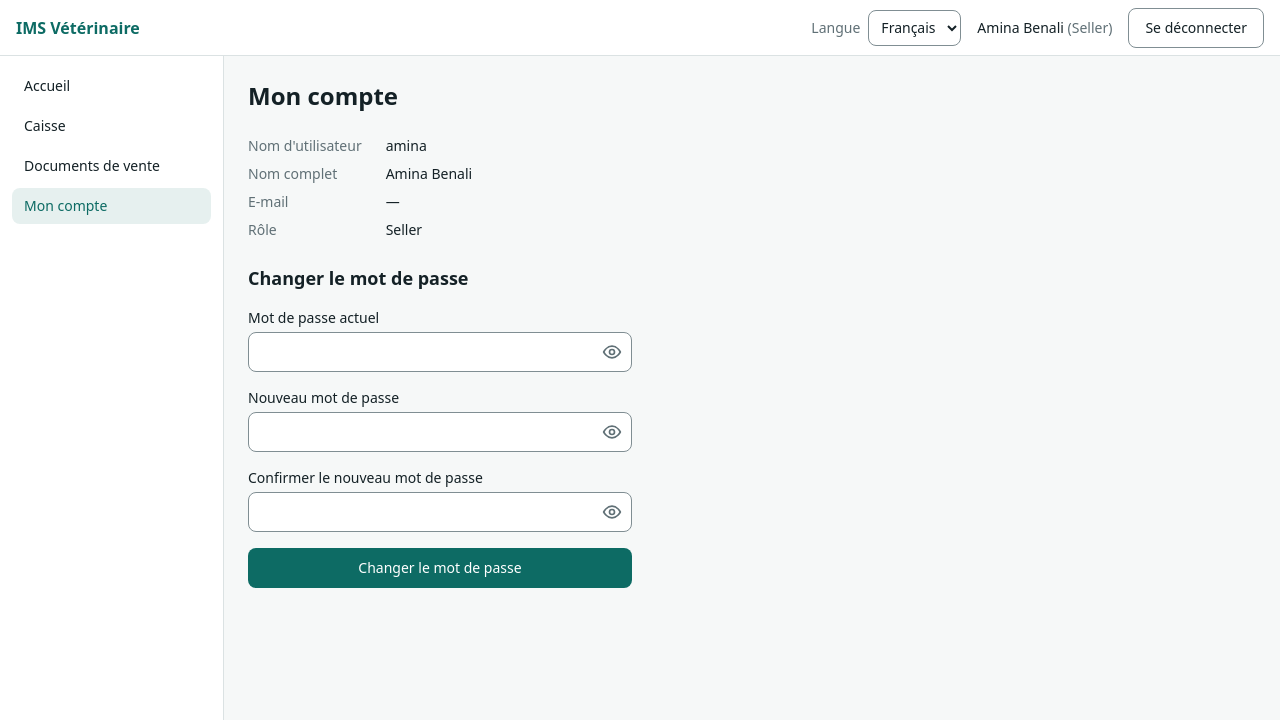
AccountPage › changes the password and confirms it
This screenshot has width=1280, height=720.
Type "Tall-cedar-river-2026" into the password field labelled "Mot de passe actuel".
click(440, 352); type("Tall-cedar-river-2026")  # box top-left (248, 332), bottom-right (632, 372)
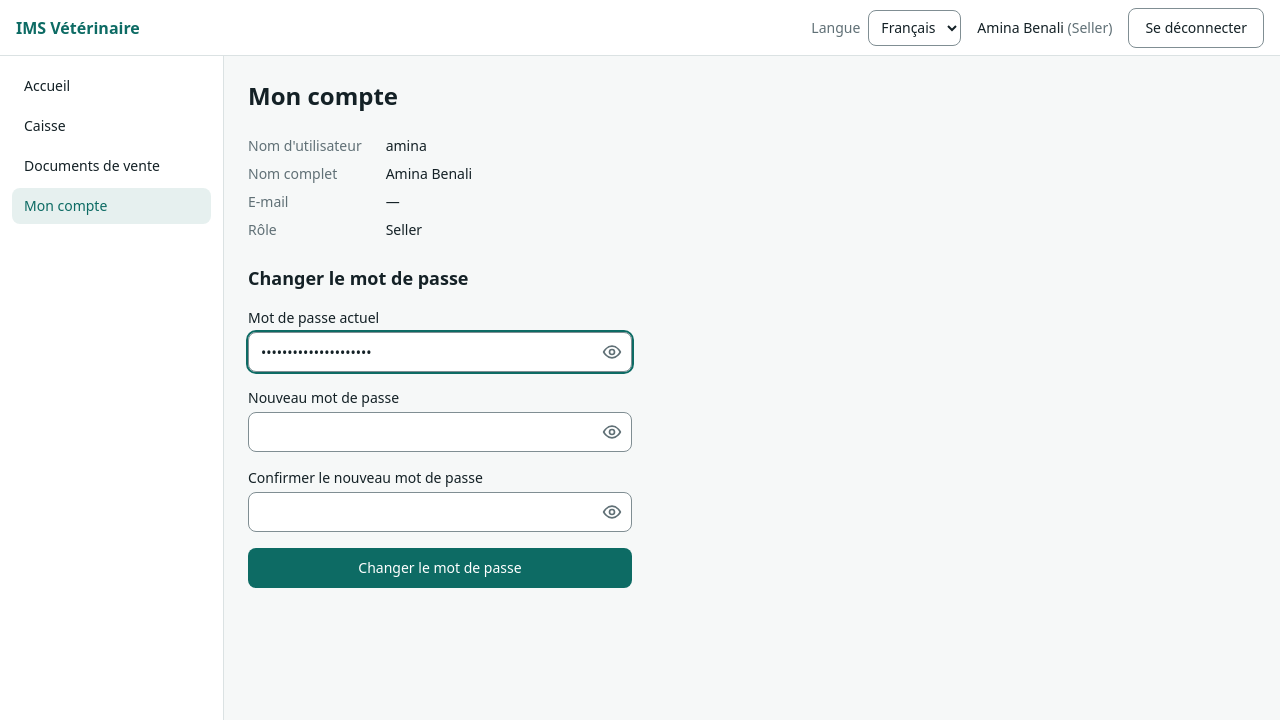
Type "Quiet-harbour-lantern-7" into the password field labelled "Nouveau mot de passe".
click(440, 432); type("Quiet-harbour-lantern-7")  # box top-left (248, 412), bottom-right (632, 452)
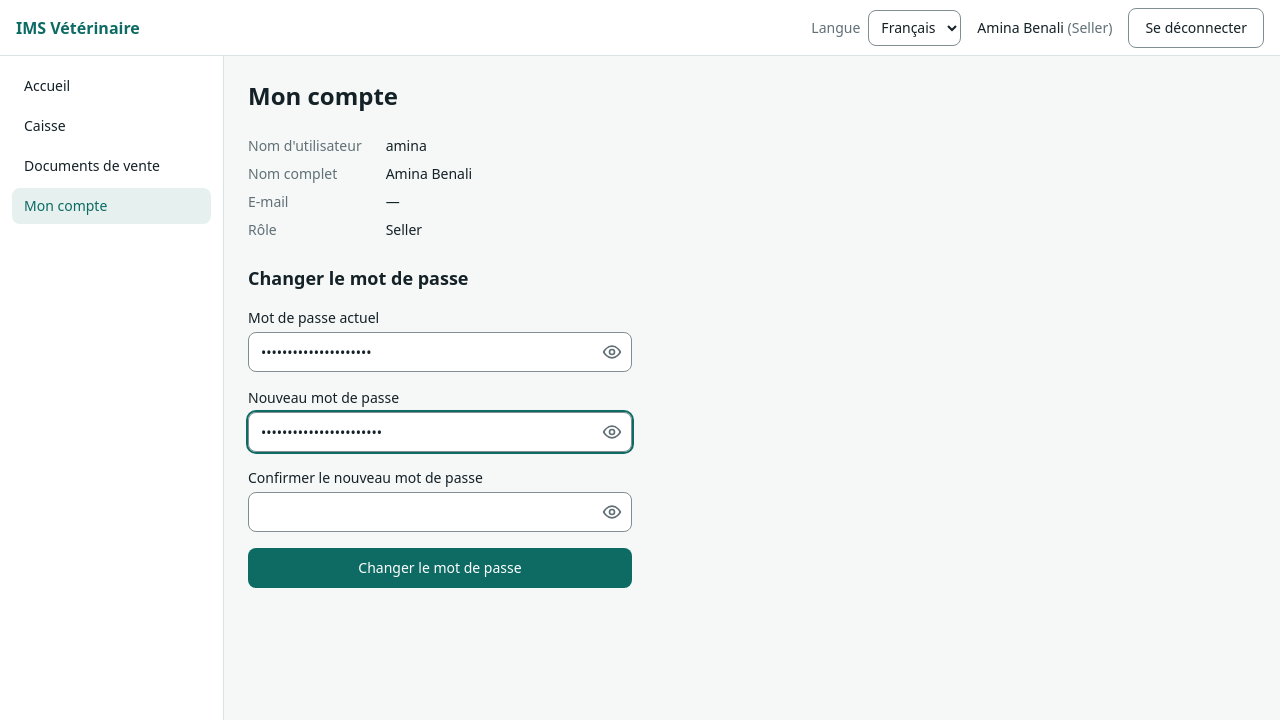
Type "Quiet-harbour-lantern-7" into the password field labelled "Confirmer le nouveau mot de passe".
click(440, 512); type("Quiet-harbour-lantern-7")  # box top-left (248, 492), bottom-right (632, 532)
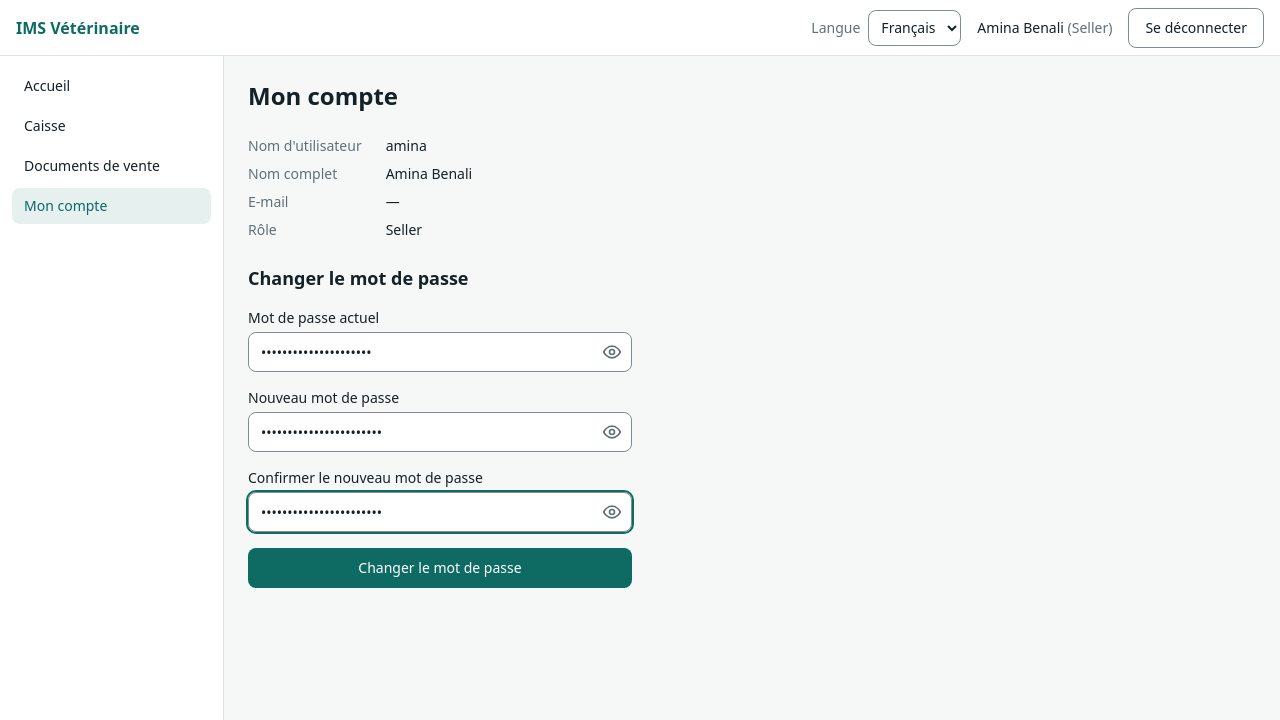
Click the button "Changer le mot de passe".
click(440, 568)  # box top-left (248, 548), bottom-right (632, 588)
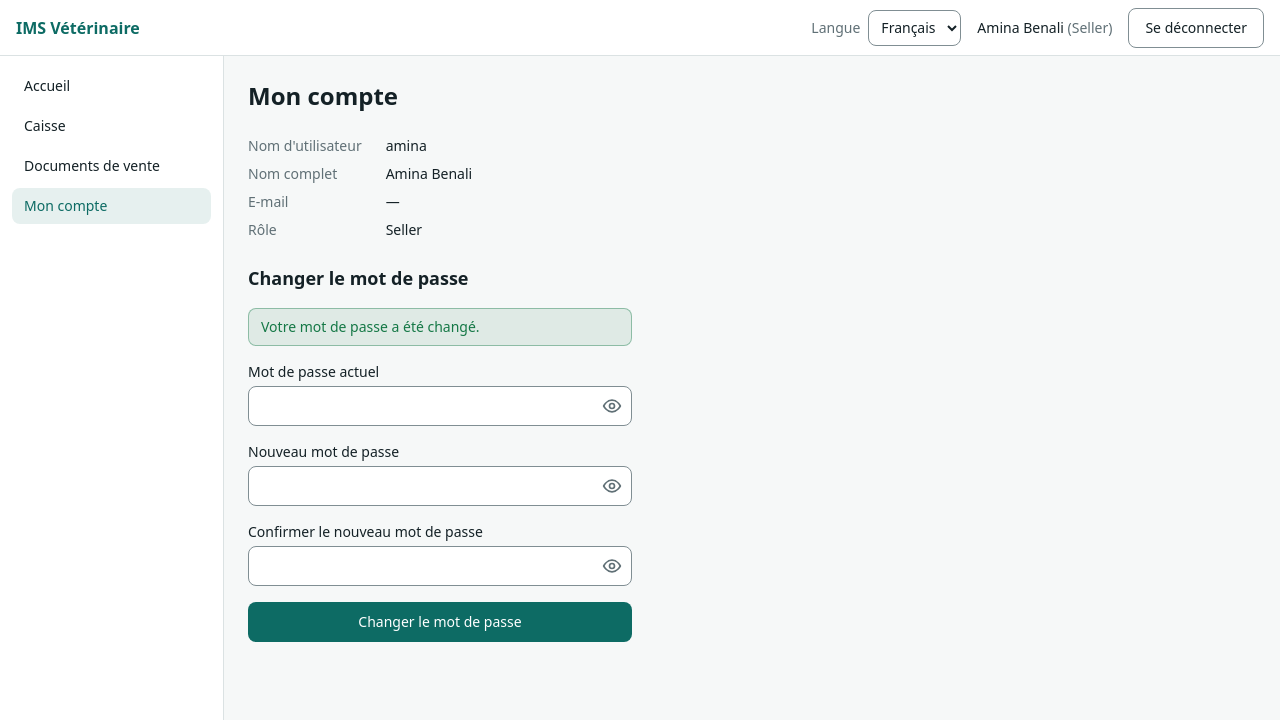
Expected: the message reads "Votre mot de passe a été changé.", top-left (261, 317), bottom-right (480, 336)
